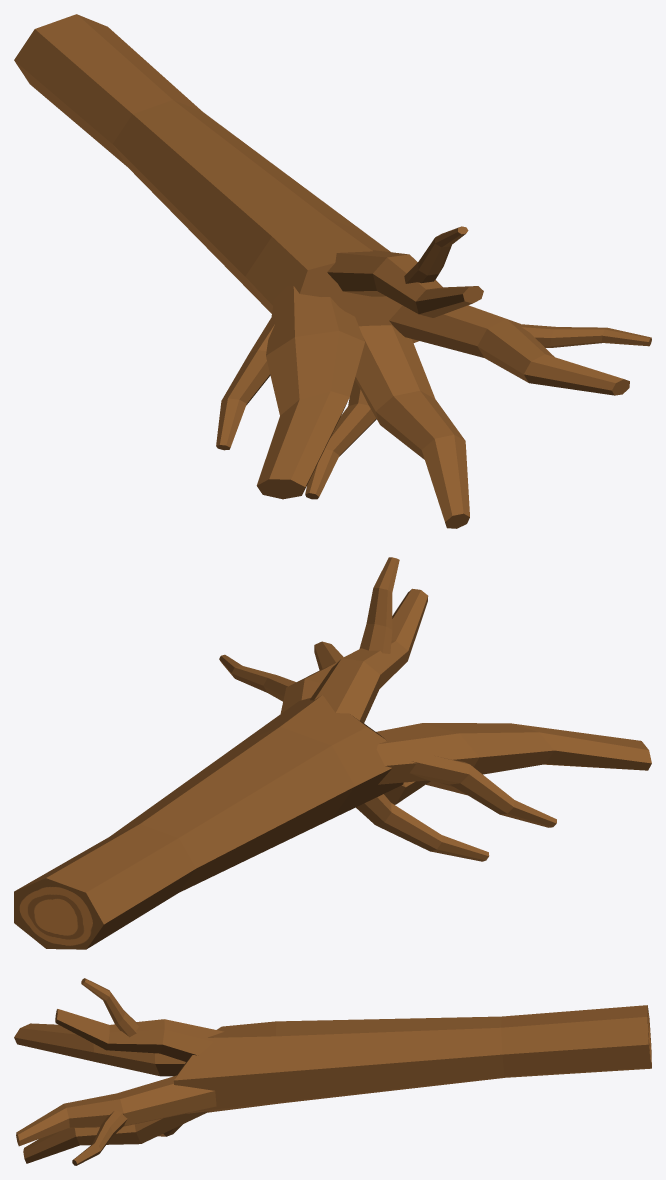
File: Tree.fbx
The picture shows the model from 3 angles, top to bottom: view 1: azimuth 30°, elevation 25°; view 2: azimuth 150°, elevation 25°; view 3: azimuth 270°, elevation 25°; orthographic projection. The views are drawn at different scales.
Parts seen in each view (by area): view 1: Cylinder.001; view 2: Cylinder.001; view 3: Cylinder.001.
Boxes of the visible parts, x1,y1,x2,y2 form: Cylinder.001: (14, 14, 651, 528); Cylinder.001: (14, 557, 651, 949); Cylinder.001: (14, 978, 651, 1165).
Size of the model in its own units: 7.83 by 4.69 by 13.58.
